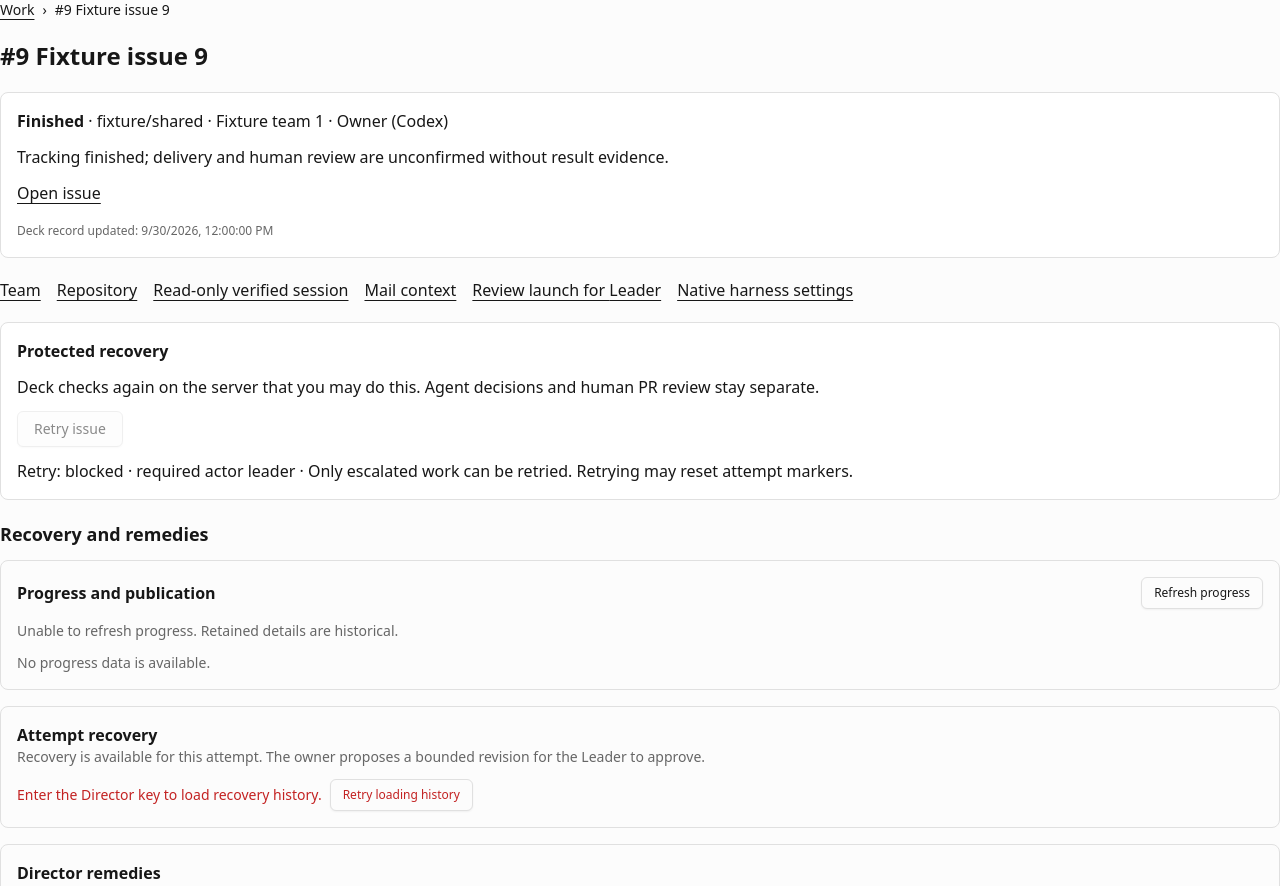
Test: work details and protected controls › does not prompt for safe detail, distinguishes completed and preserves offline actor slot links
expect the text "delivery and human review are unconfirmed" is shown: met, box [17, 146, 669, 168]
expect the text "Enter the Director key to load recovery history." is shown: met, box [17, 785, 322, 805]
Click the button "Retry loading history": [401, 795] box [330, 779, 473, 811]
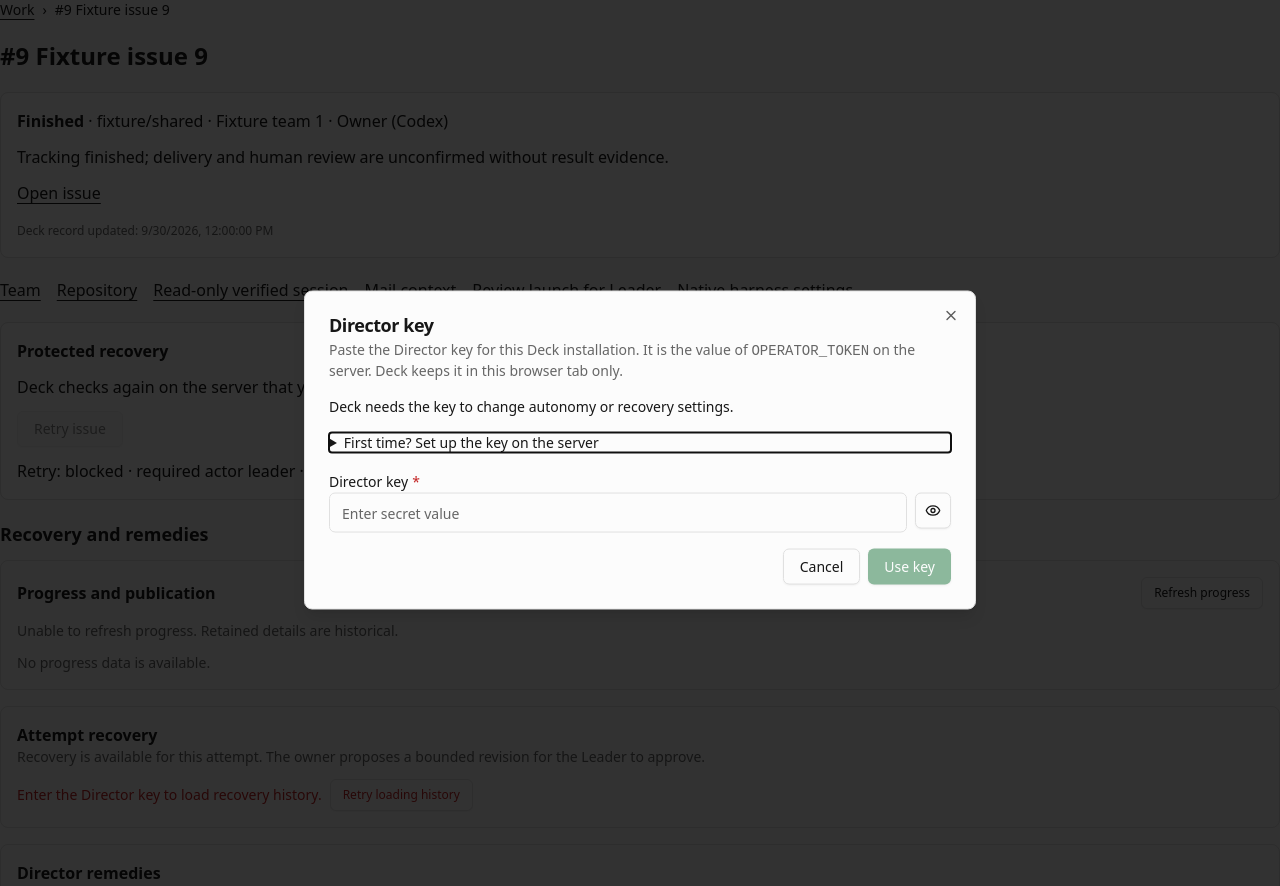
expect the dialog is shown: met, box [304, 290, 976, 610]
